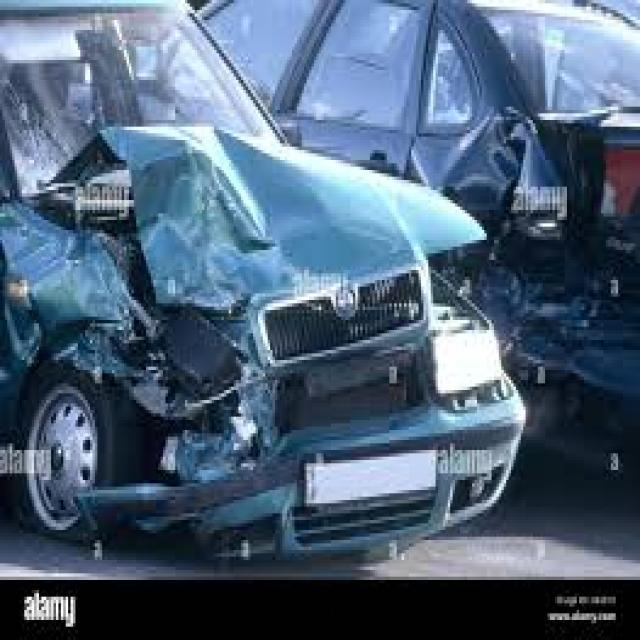damaged-hood: (24, 123, 480, 329)
